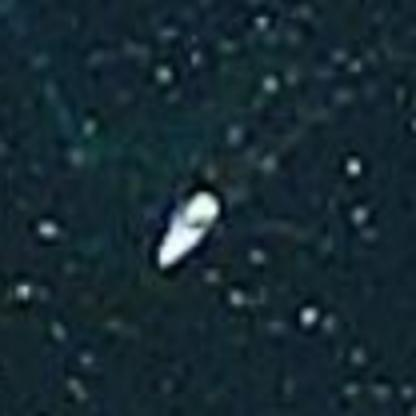ship: (148, 177, 224, 273)
